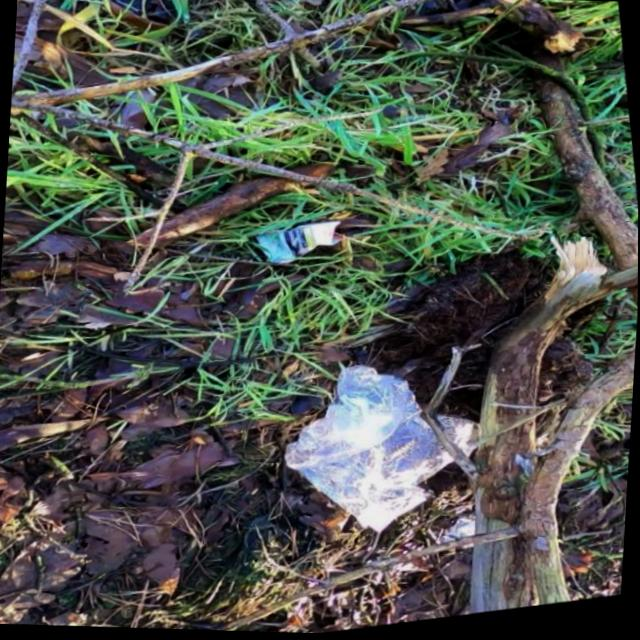Paper: (250, 216, 347, 273)
